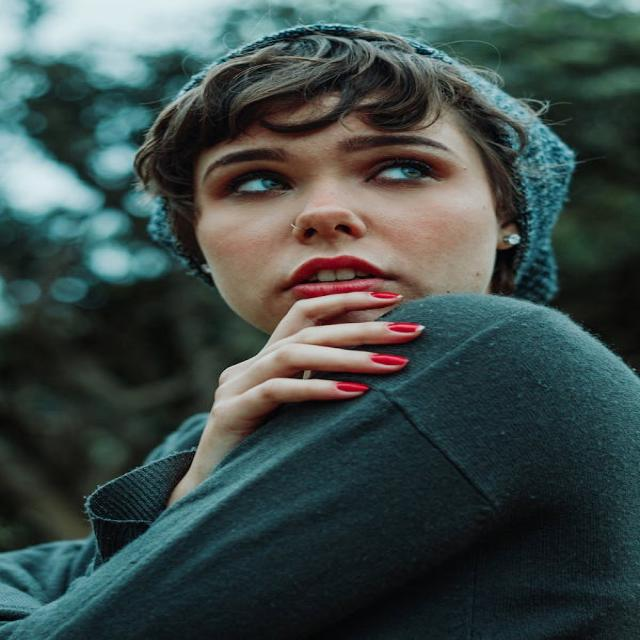no_mask: (60, 50, 591, 522)
